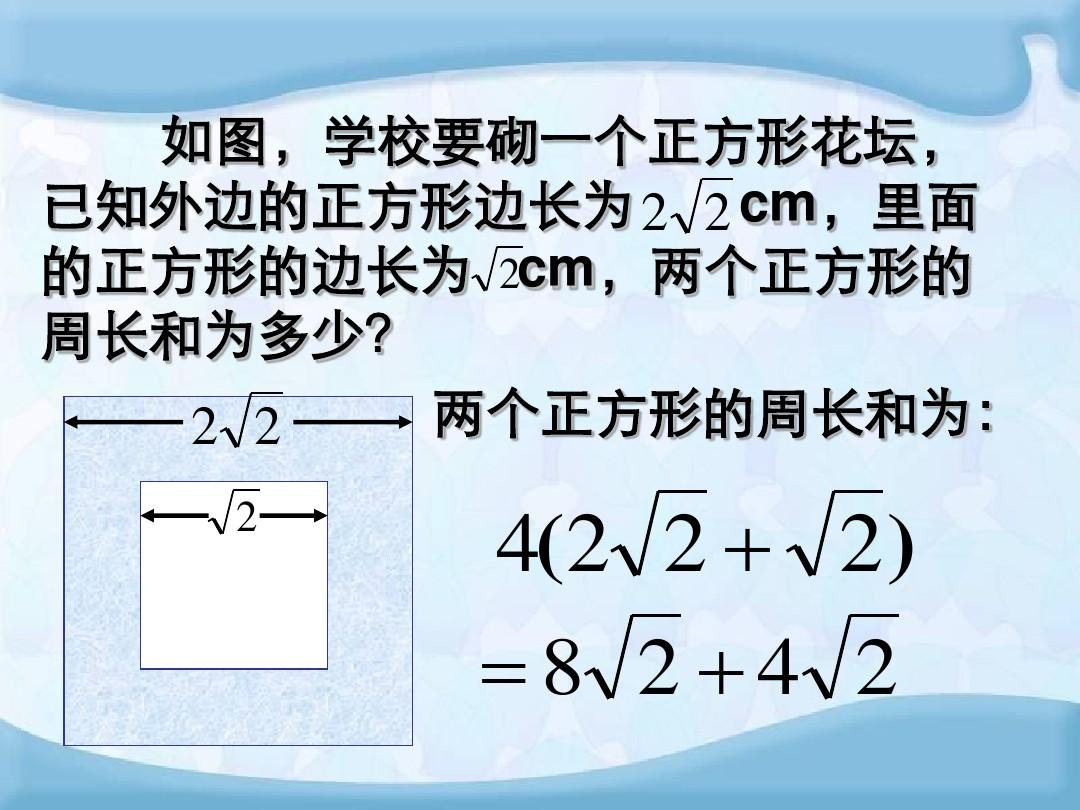sqrt: (784, 484, 890, 584), (800, 606, 907, 704), (610, 487, 717, 581), (585, 606, 681, 706), (667, 171, 732, 237), (223, 388, 289, 452), (211, 482, 259, 541)
